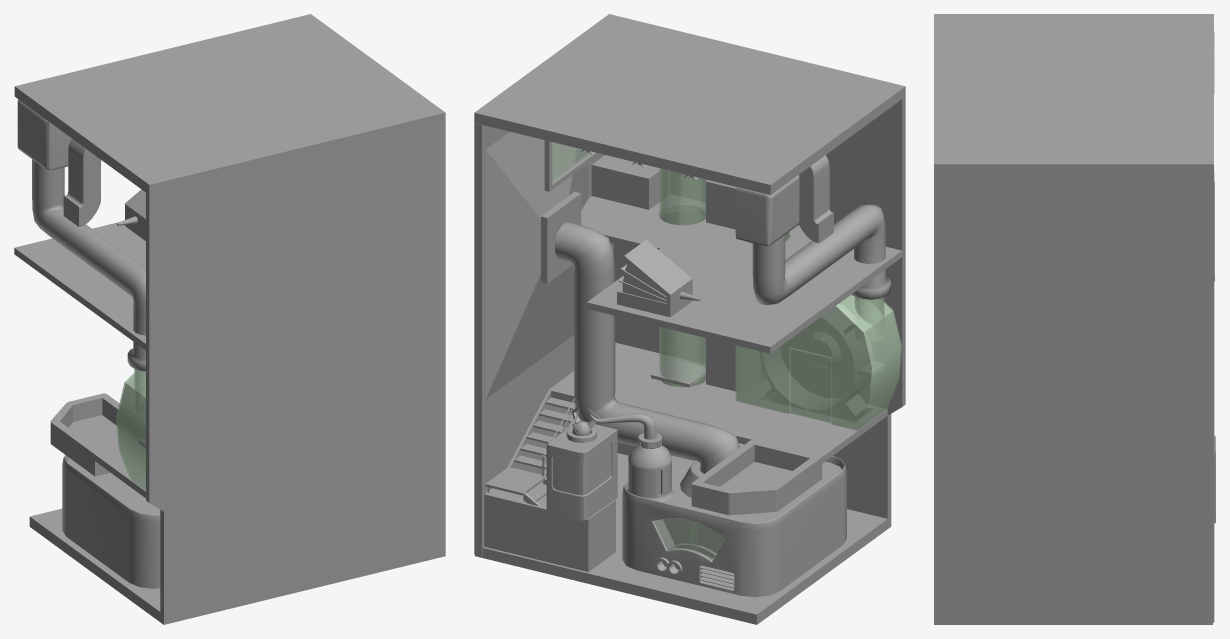
Rendered from HairDryer.fbx.
3 views of the same model, side by side, from view 1: azimuth 30°, elevation 25°; view 2: azimuth 150°, elevation 25°; view 3: azimuth 270°, elevation 25° (orthographic). The views are drawn at different scales.
Visible parts, largest first — view 1: Floor4, Ceiling, CanBase, FanTube, Floor6, Floor1, Floor0, GlassRoom, TopTube, FanBase; view 2: Ceiling, OutTube, Floor6, Floor4, Floor1, CanBase, GlassRoom, CanTube, Floor0, Floor3, FanTube, HamsterWheelBase (+19 smaller); view 3: OutTube, Ceiling, Floor4, Floor0.
Boxes of the visible parts, x1,y1,x2,y2 form: Floor4: (146,110,445,624); Ceiling: (14,14,442,192); CanBase: (62,455,160,588); FanTube: (32,159,145,371); Floor6: (14,222,145,350); Floor1: (50,393,145,497); Floor0: (29,508,161,622); GlassRoom: (116,370,145,491); TopTube: (63,139,101,226); FanBase: (17,99,71,170); Ceiling: (474,16,902,195); OutTube: (474,123,613,556); Floor6: (581,194,902,353); Floor4: (606,14,905,527); Floor1: (548,342,887,515); CanBase: (622,443,846,597); GlassRoom: (735,295,901,430); CanTube: (555,222,739,473); Floor0: (475,453,888,624); Floor3: (484,482,615,571); FanTube: (752,204,890,305); HamsterWheelBase: (759,304,873,413); OutTube: (941,171,1214,622); Ceiling: (940,14,1213,174); Floor4: (934,14,940,624); Floor0: (939,614,1212,624).
Bounding box in the file's own units: 7.73 × 11.05 × 6.13.
